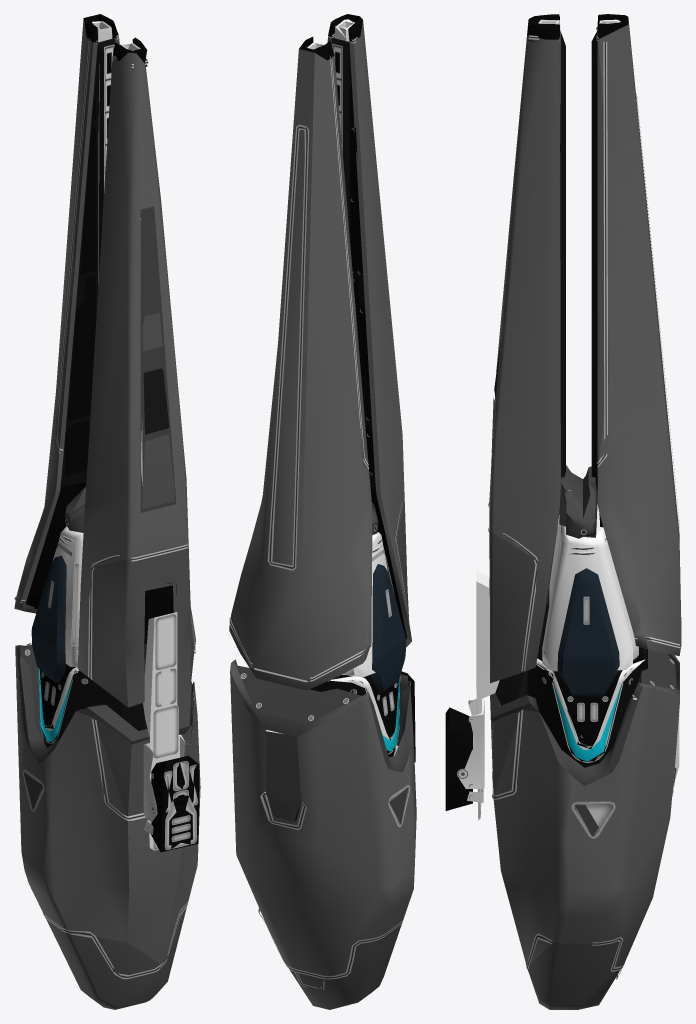
The model's file is dr-model-xj1-repeater.glb.
3 views of the same model, side by side, from view 1: azimuth 30°, elevation 25°; view 2: azimuth 150°, elevation 25°; view 3: azimuth 270°, elevation 25° (orthographic). The views are drawn at different scales.
Visible parts, largest first — view 1: barrel_02, core, barrel_01, mec_1, ven_1, pow_1; view 2: barrel_02, core, barrel_01, mec_1, ven_1; view 3: barrel_02, core, mec_1, barrel_01, ven_1, pow_1.
Boxes of the visible parts, <box> form: barrel_02: <box>14,18,200,1009</box>; core: <box>14,14,199,979</box>; barrel_01: <box>16,206,194,809</box>; mec_1: <box>31,538,82,731</box>; ven_1: <box>20,644,192,746</box>; pow_1: <box>38,668,71,741</box>; barrel_02: <box>229,21,416,1009</box>; core: <box>229,14,415,989</box>; barrel_01: <box>265,502,413,824</box>; mec_1: <box>330,564,406,740</box>; ven_1: <box>236,665,408,745</box>; barrel_02: <box>489,18,681,1009</box>; core: <box>445,14,681,979</box>; mec_1: <box>536,525,644,749</box>; barrel_01: <box>491,172,642,836</box>; ven_1: <box>490,649,676,723</box>; pow_1: <box>553,684,621,761</box>.
Bounding box in the file's own units: 0.2728 × 1.62 × 0.3528.
16 materials, 5 textured.
